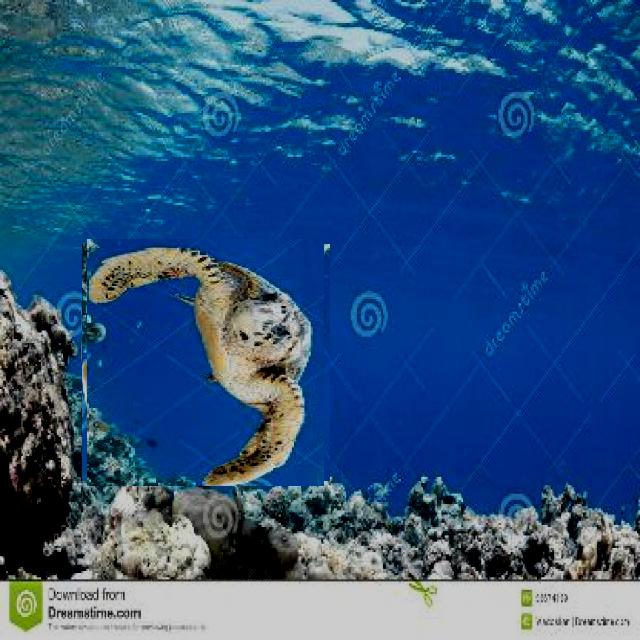Sea turtle: (85, 241, 327, 484)
